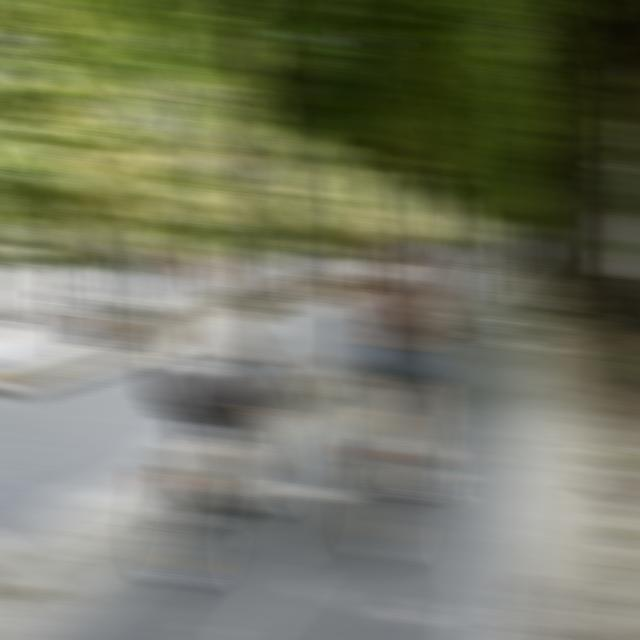Without Helmet: (172, 226, 228, 285), (366, 199, 421, 247)
